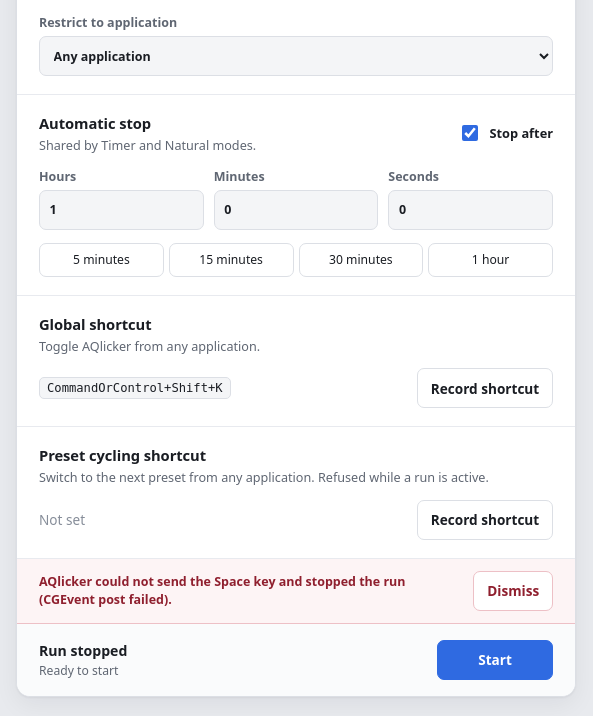
App › names the failed key after an input failure and lets the notice be dismissed
The width and height of the screenshot is (593, 716).
(page scrolled)
Expected: the text "AQlicker could not send the Space key" is shown, x1=39 y1=572 x2=406 y2=608
Click the button "Dismiss": (513, 591) x1=473 y1=571 x2=553 y2=611
(page scrolled)
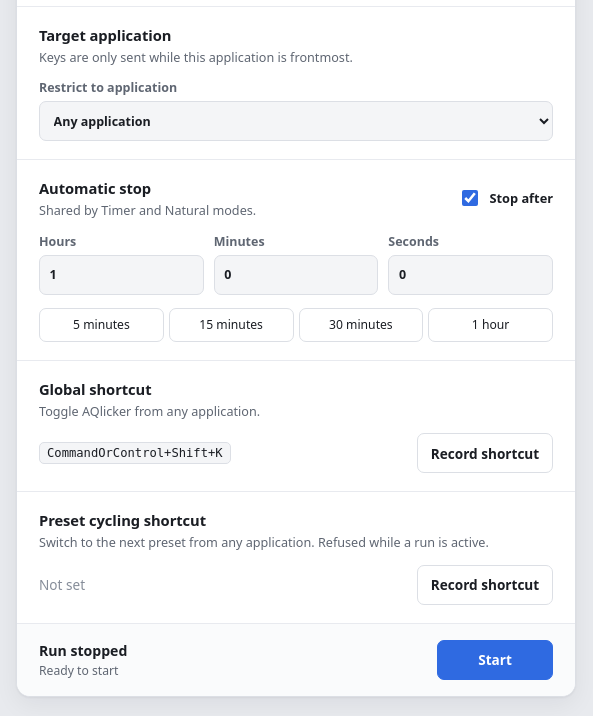
Expected: the button "Start" is enabled, x1=437 y1=640 x2=553 y2=680
Expected: the text "AQlicker could not send" is gone
